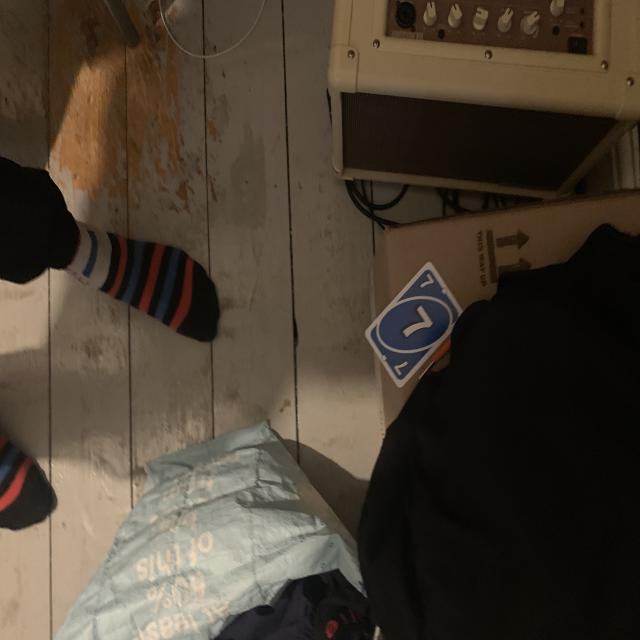lblue-7: (415, 270, 438, 292)
